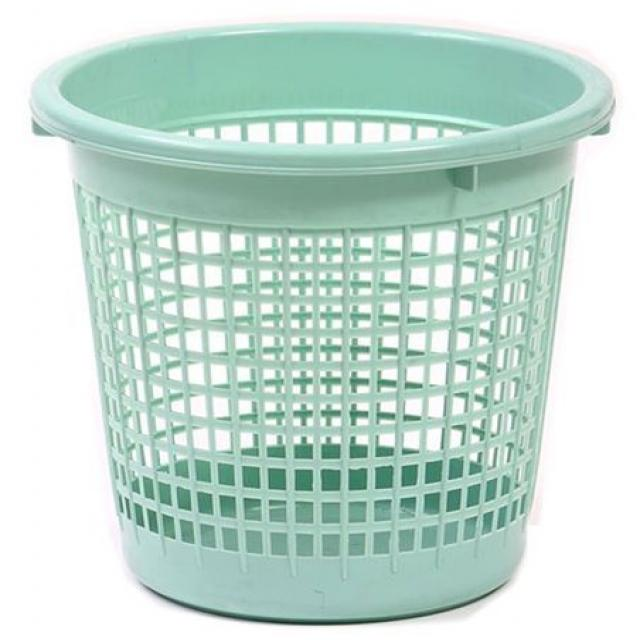Dustbin: (27, 18, 619, 628)
